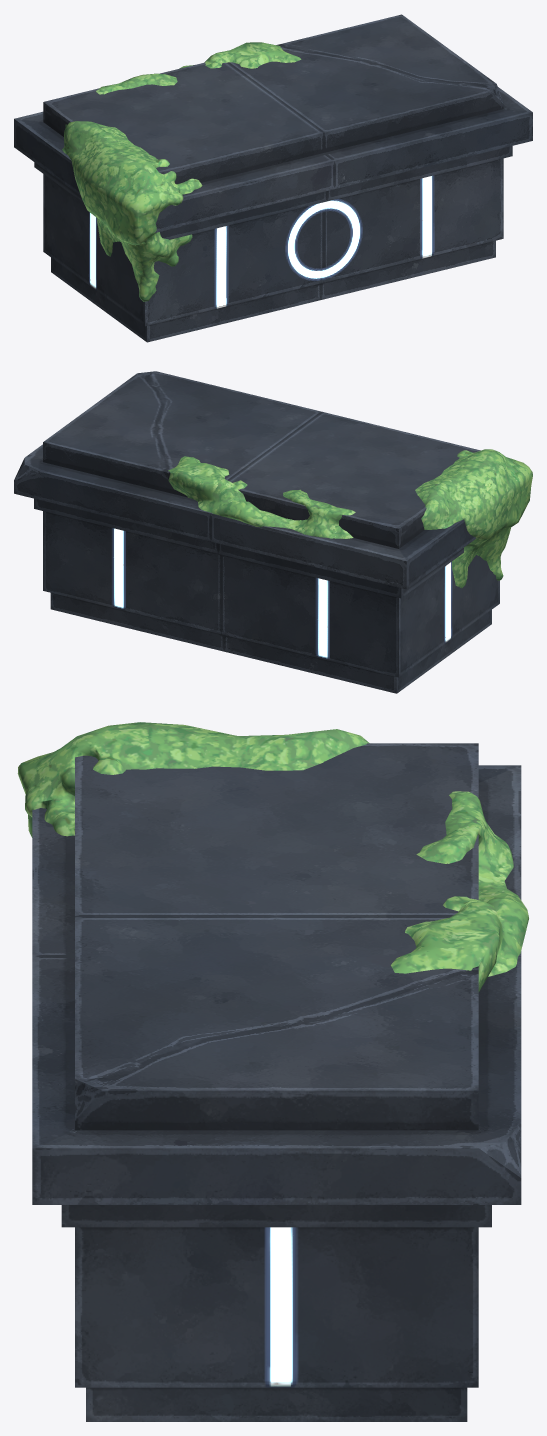
Rendered from Rune_1.fbx.
3 views of the same model, one above another, from view 1: azimuth 30°, elevation 25°; view 2: azimuth 150°, elevation 25°; view 3: azimuth 270°, elevation 25° (orthographic). The views are drawn at different scales.
Visible parts, largest first — view 1: rune 1 low, rune 1 moss low; view 2: rune 1 low, rune 1 moss low; view 3: rune 1 low, rune 1 moss low.
Boxes of the visible parts, box(x1,y1,x2,y2) form: rune 1 low: box(14, 14, 532, 342); rune 1 moss low: box(62, 42, 301, 301); rune 1 low: box(14, 371, 499, 693); rune 1 moss low: box(168, 449, 532, 588); rune 1 low: box(32, 743, 521, 1421); rune 1 moss low: box(17, 722, 528, 992).
Bounding box in the file's own units: 125 × 52.31 × 68.95.
Materials: 2 (2 with a texture image).
